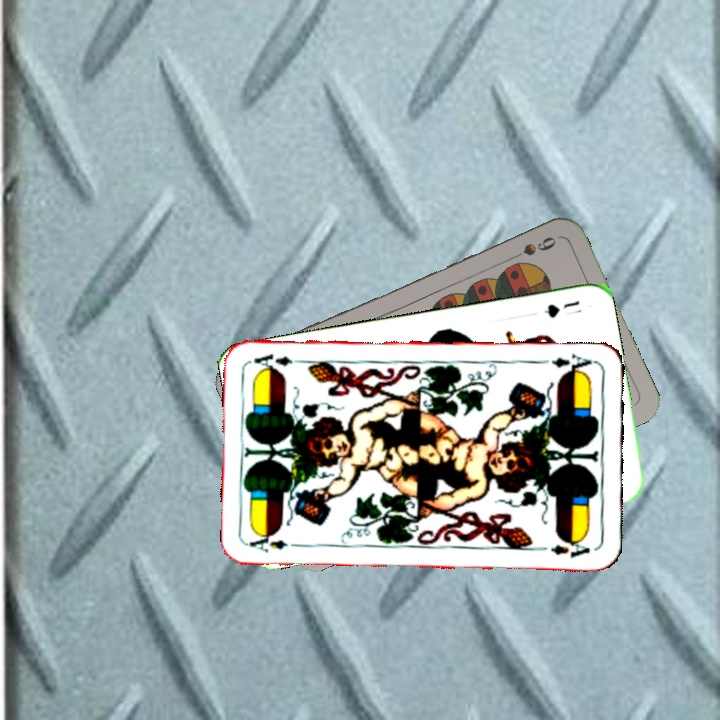EA: (538, 350, 597, 377), (245, 531, 290, 554)
GU: (540, 296, 585, 321)
S9: (503, 232, 559, 264)
